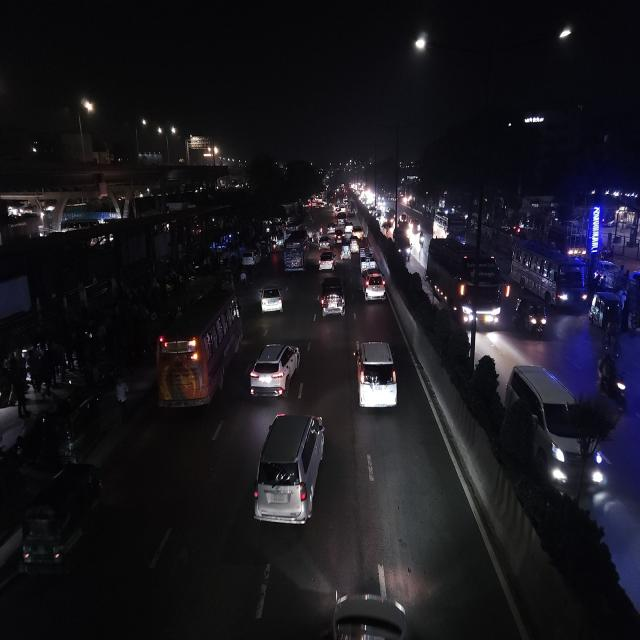bicycle: (597, 327, 626, 357)
bus: (153, 286, 243, 415), (251, 408, 329, 538), (426, 237, 506, 331), (514, 240, 588, 309), (282, 226, 311, 277), (432, 208, 468, 241)
car: (250, 408, 330, 539), (352, 336, 400, 419), (248, 337, 304, 402), (318, 274, 348, 322), (362, 268, 388, 304), (257, 284, 285, 317), (318, 250, 337, 273), (240, 246, 260, 267), (338, 239, 352, 260), (318, 234, 332, 250), (351, 223, 363, 240)
cng: (514, 296, 548, 341), (588, 288, 622, 328), (217, 269, 235, 290)
motorcycle: (595, 350, 629, 409)
pedestrian: (113, 377, 131, 410)
pickup_van: (358, 247, 377, 270)
